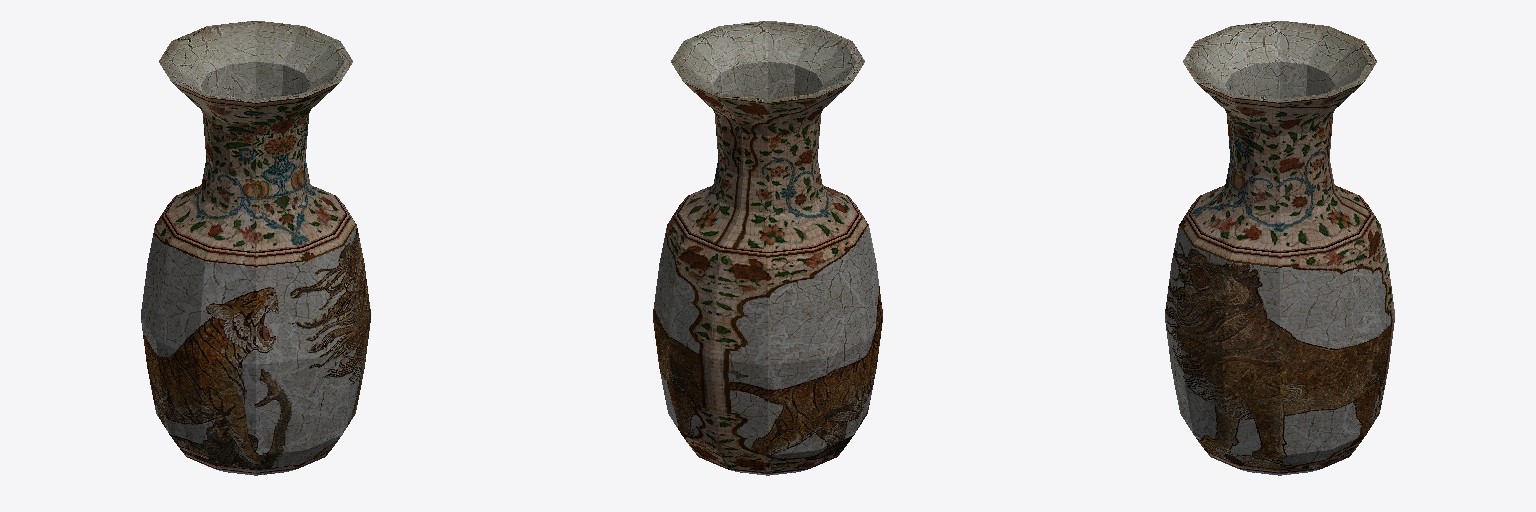
3 renders of one model, left to right at view 1: azimuth 30°, elevation 25°; view 2: azimuth 150°, elevation 25°; view 3: azimuth 270°, elevation 25°, orthographic.
Visible parts, largest first — view 1: HeavyThrownObject_Vase; view 2: HeavyThrownObject_Vase; view 3: HeavyThrownObject_Vase.
Part boxes in pixels (x1,y1,x2,y2): HeavyThrownObject_Vase: (141,21,370,475); HeavyThrownObject_Vase: (653,21,882,475); HeavyThrownObject_Vase: (1165,21,1394,475).
Bounding box in the file's own units: 0.3258 × 0.6053 × 0.3258.
1 materials, 1 textured.